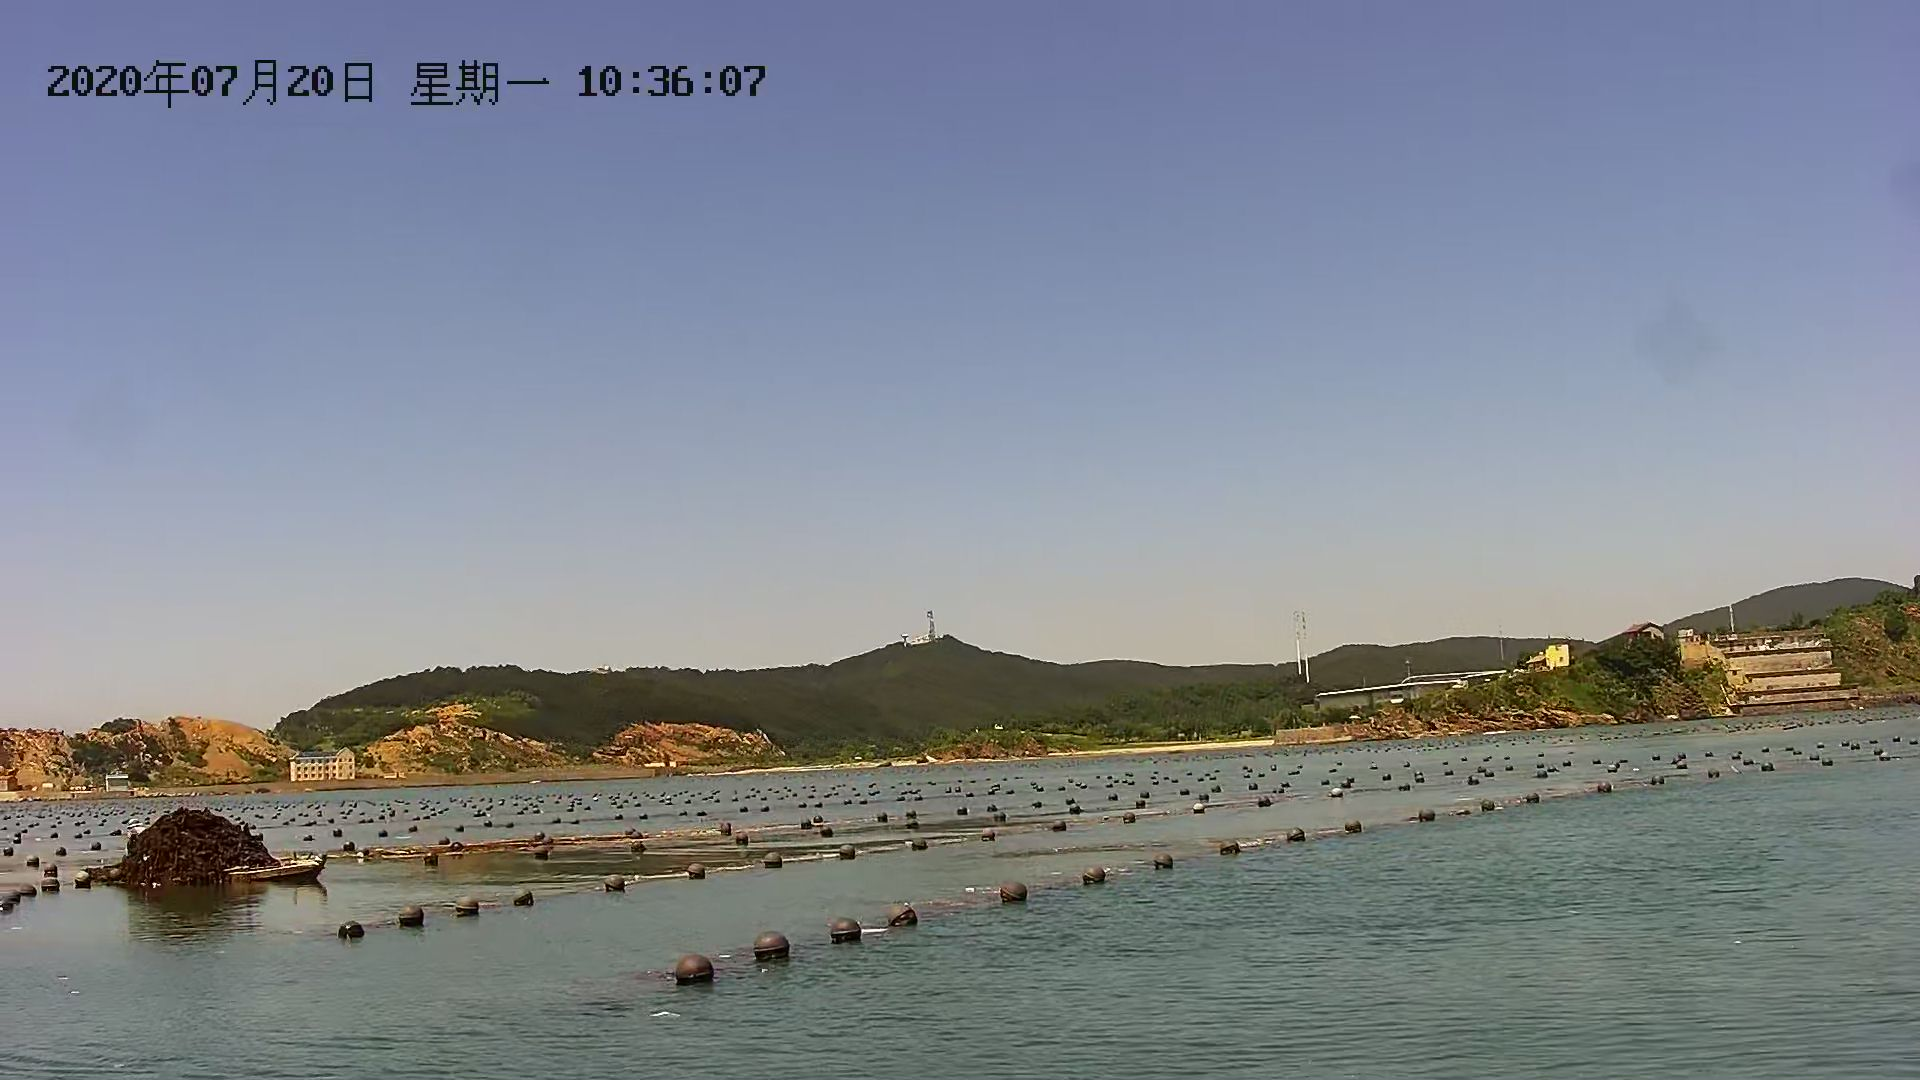ball: (661, 949, 715, 996), (748, 922, 800, 965), (881, 895, 928, 938), (997, 870, 1031, 915), (326, 913, 373, 944), (396, 901, 438, 930), (829, 916, 864, 949), (1076, 858, 1110, 891), (448, 894, 481, 924), (1149, 851, 1183, 878), (600, 866, 626, 895), (684, 860, 713, 882), (512, 891, 535, 913), (764, 849, 785, 872)
boat: (1215, 827, 1244, 858)
rubbish: (105, 806, 326, 891)
